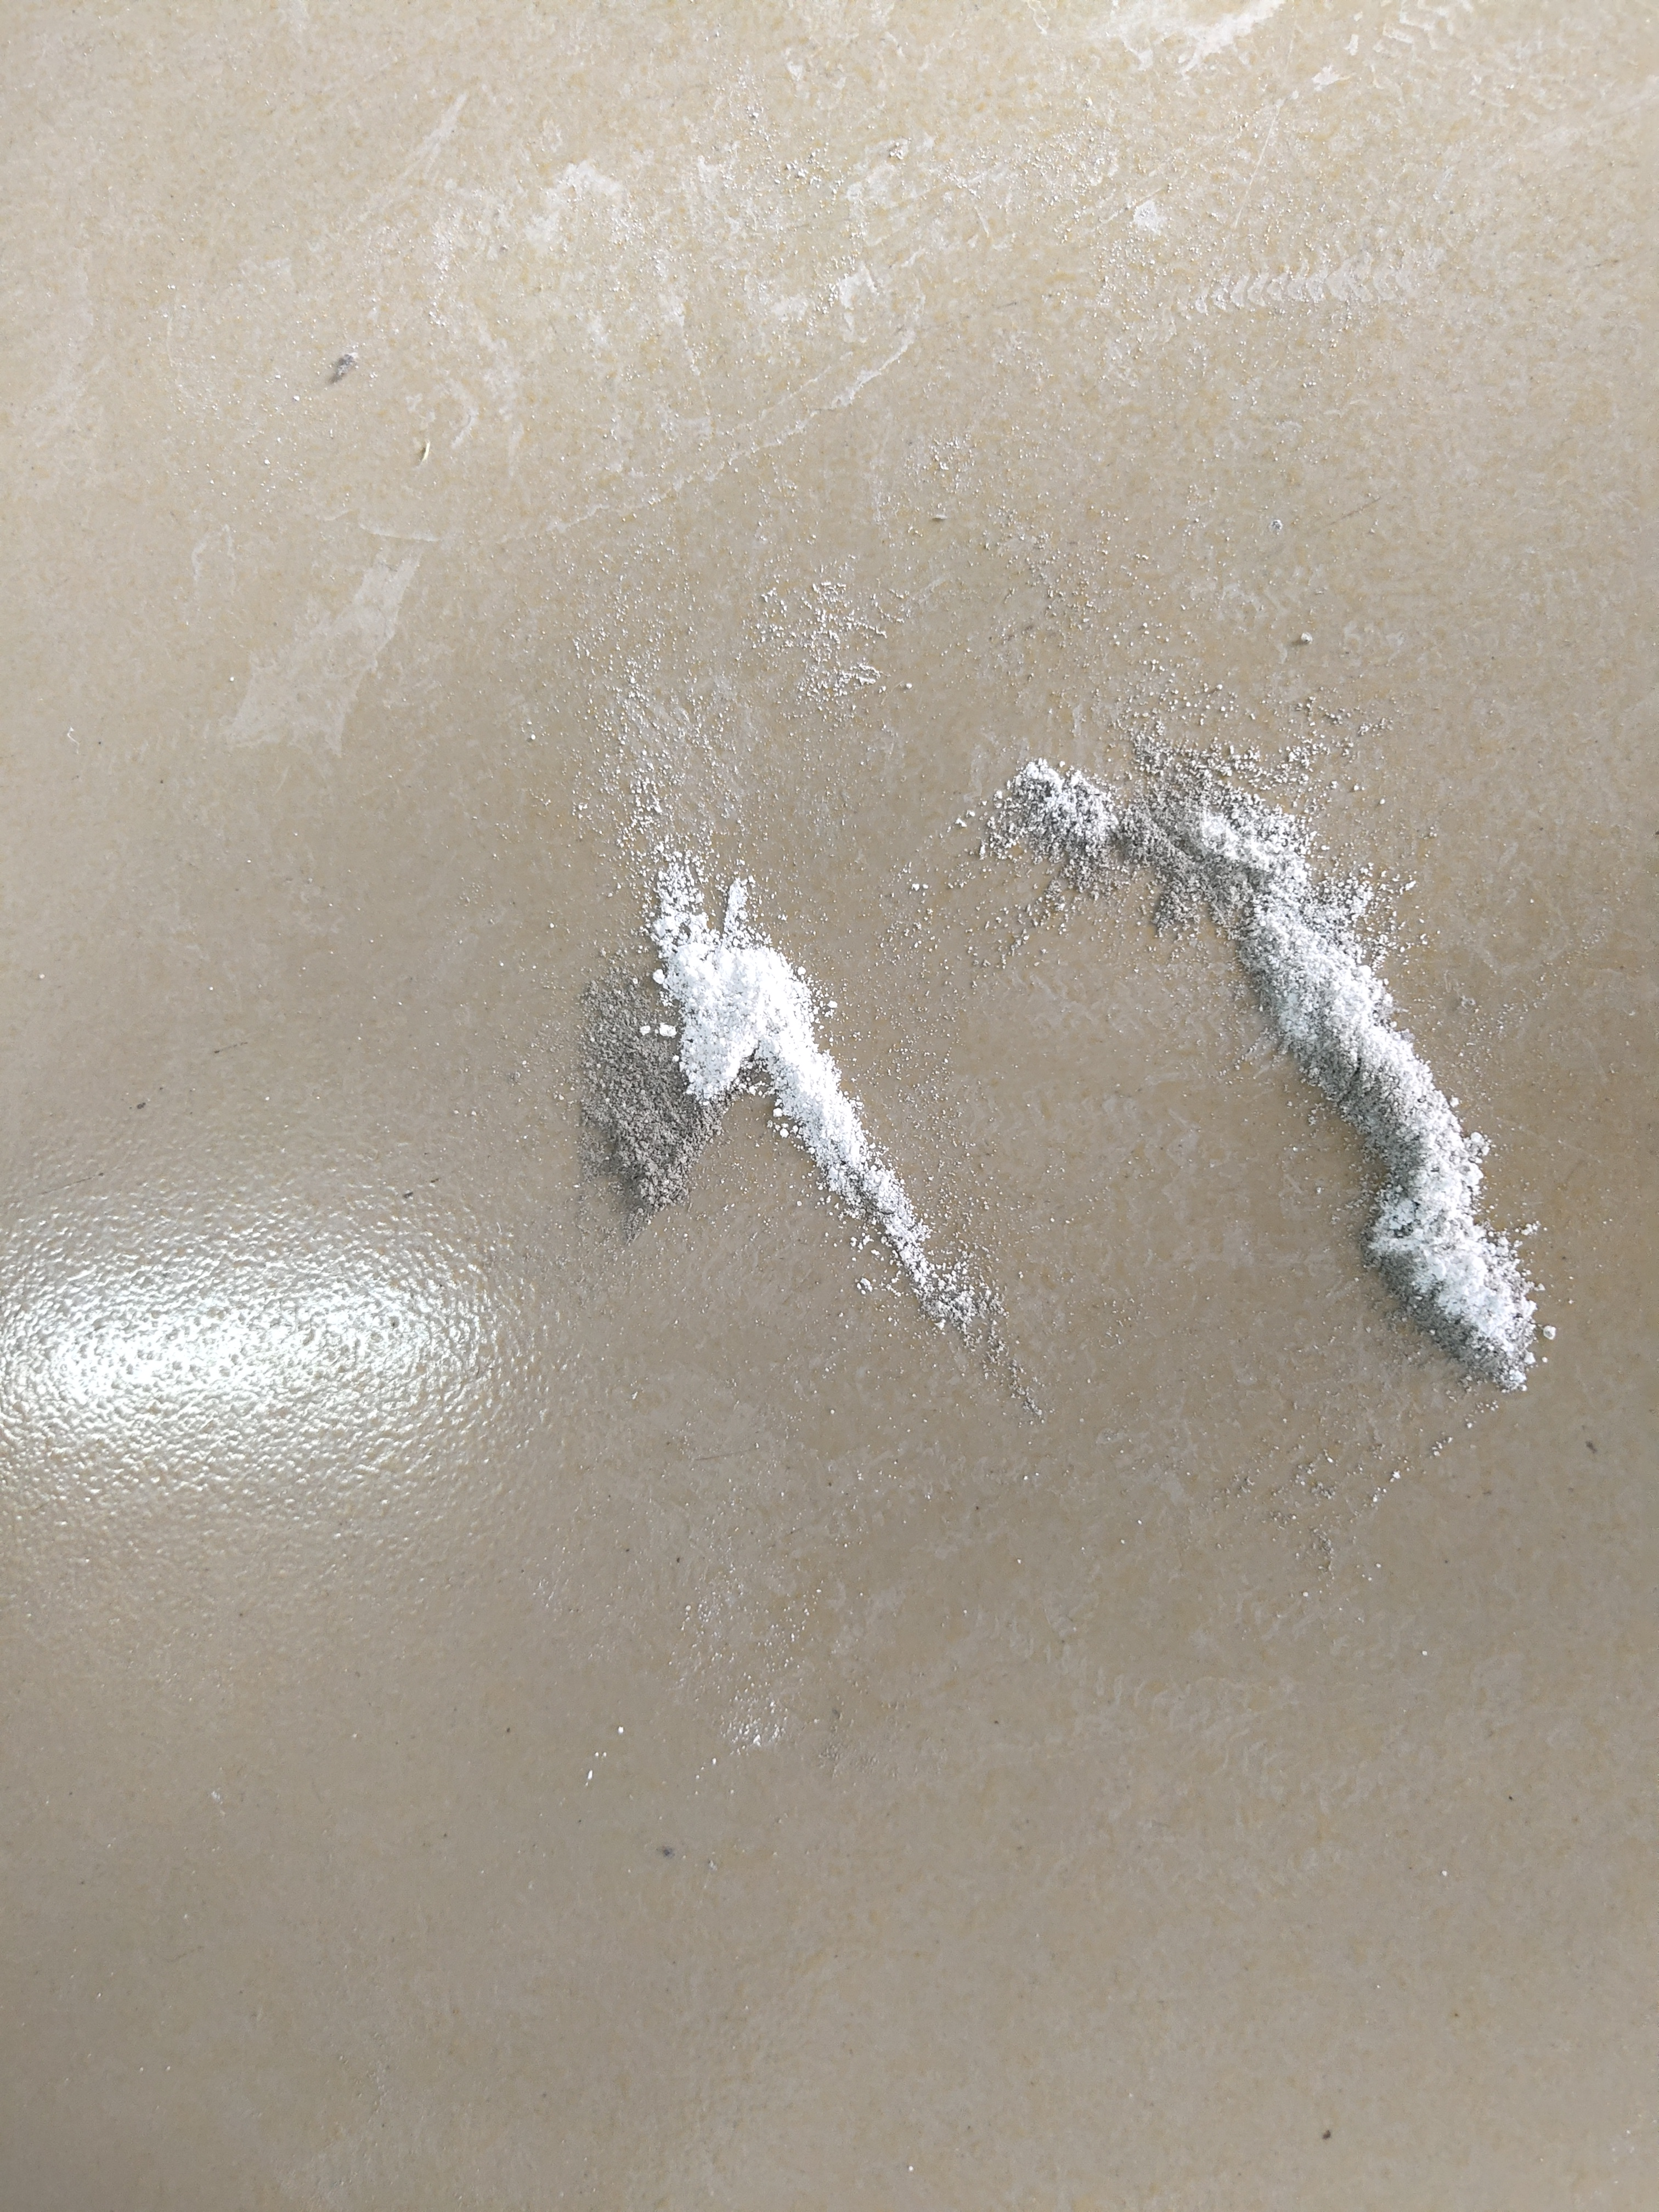ash pile: (978, 744, 1553, 1400), (580, 845, 1047, 1426)
reflection: (7, 1198, 528, 1493)
